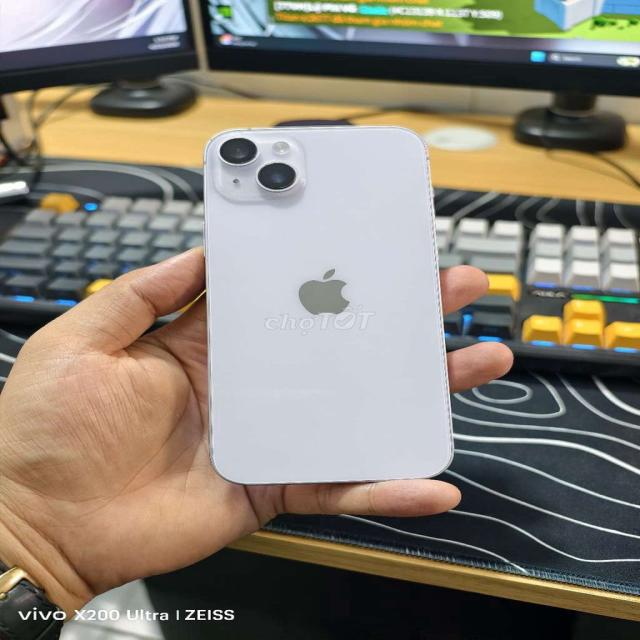gen_14: (200, 121, 463, 496)
